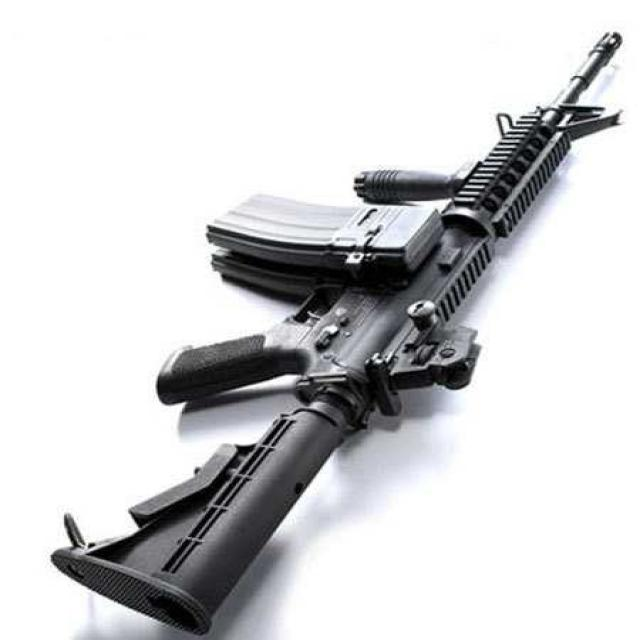Rifle: (41, 7, 633, 630)
